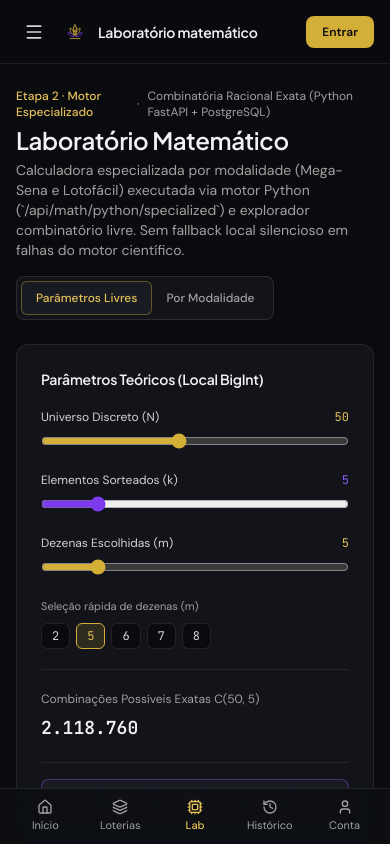
Unitários UI — Responsividade e Laboratório Matemático › consulta /api/math/python/specialized no modo Por Modalidade e respeita vigência temporal
Earlier steps of the test are not shown.
Check: the heading "Laboratório Matemático" is shown, box [16,125,289,155]
Click the tab "Por Modalidade" at point(210, 298), box [152,281,268,315]
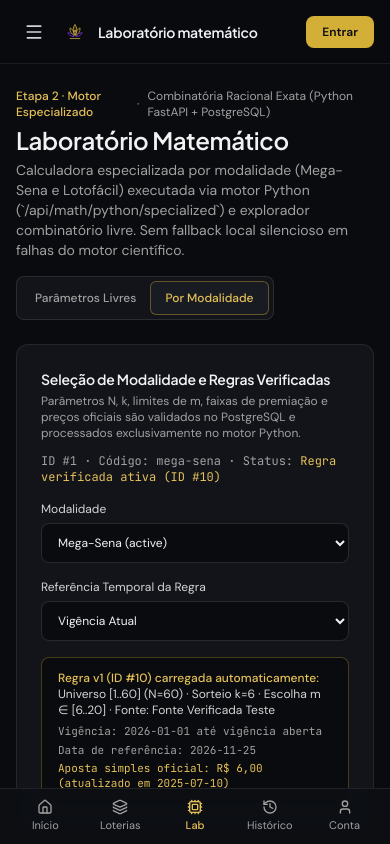
Check: the text "Regra v1 (ID #10) carregada automaticamente:" is shown, box [58,670,319,686]
Select "Data Histórica de Referência" in the dropdown labelled "Referência Temporal da Regra" at point(195, 621), box [41,601,349,641]
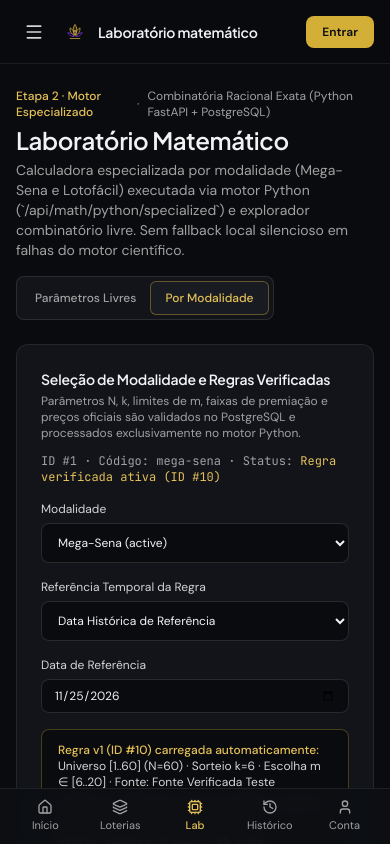
Type "2021-06-15" into the date field named "Data de referência da regra" at point(195, 696), box [41,679,349,713]
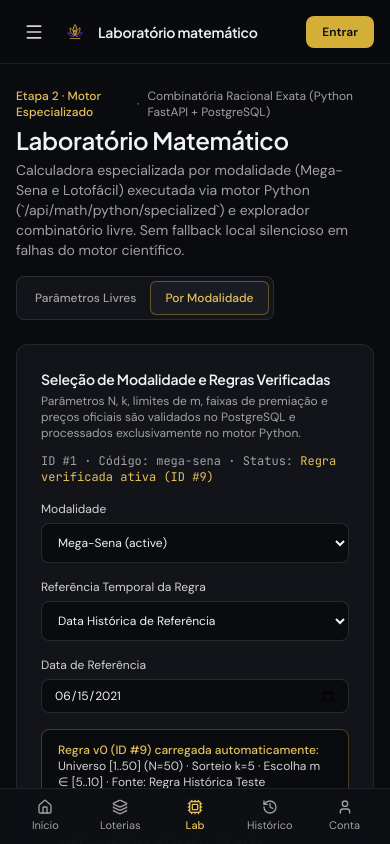
Check: the text "Regra v0 (ID #9) carregada automaticamente:" is shown, box [58,742,319,758]
